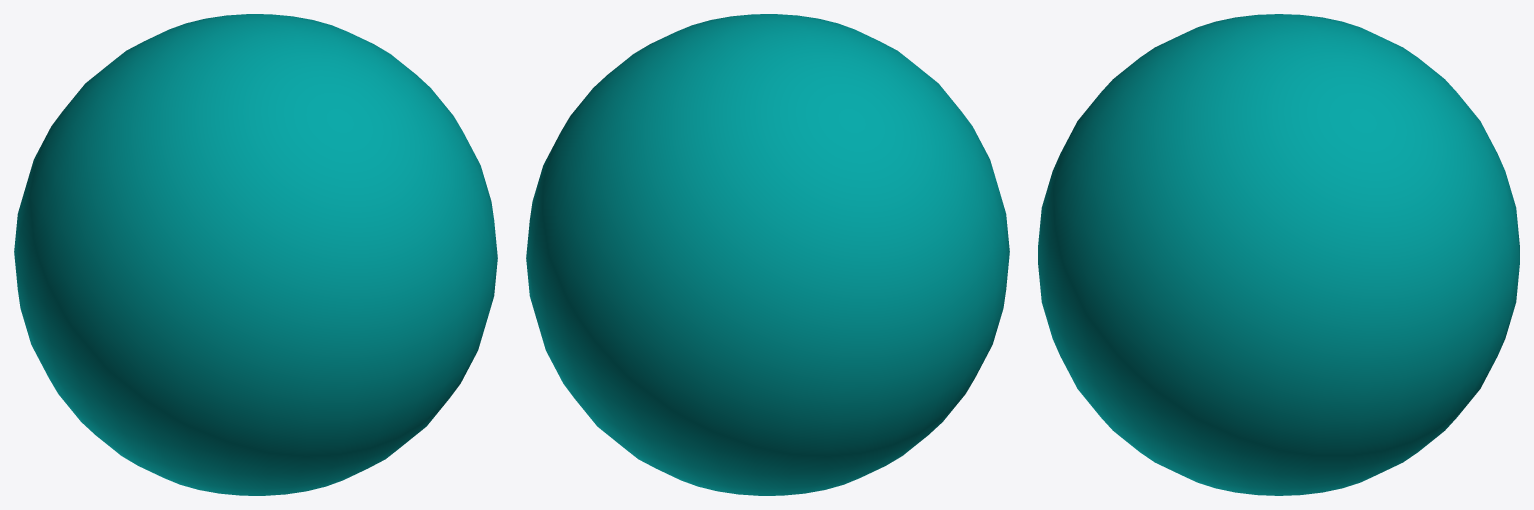
The model's file is sphere_normals.obj.
3 views of the same model, side by side, from view 1: azimuth 30°, elevation 25°; view 2: azimuth 150°, elevation 25°; view 3: azimuth 270°, elevation 25° (orthographic).
Parts seen in each view (by area): view 1: Sphere; view 2: Sphere; view 3: Sphere.
Part boxes in pixels (x1,y1,x2,y2): Sphere: (14,14,497,495); Sphere: (526,14,1009,495); Sphere: (1038,14,1519,495).
Size of the model in its own units: 2 by 2 by 1.99.
